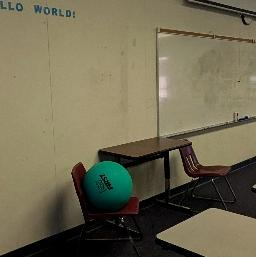algae: (82, 161, 135, 212)
